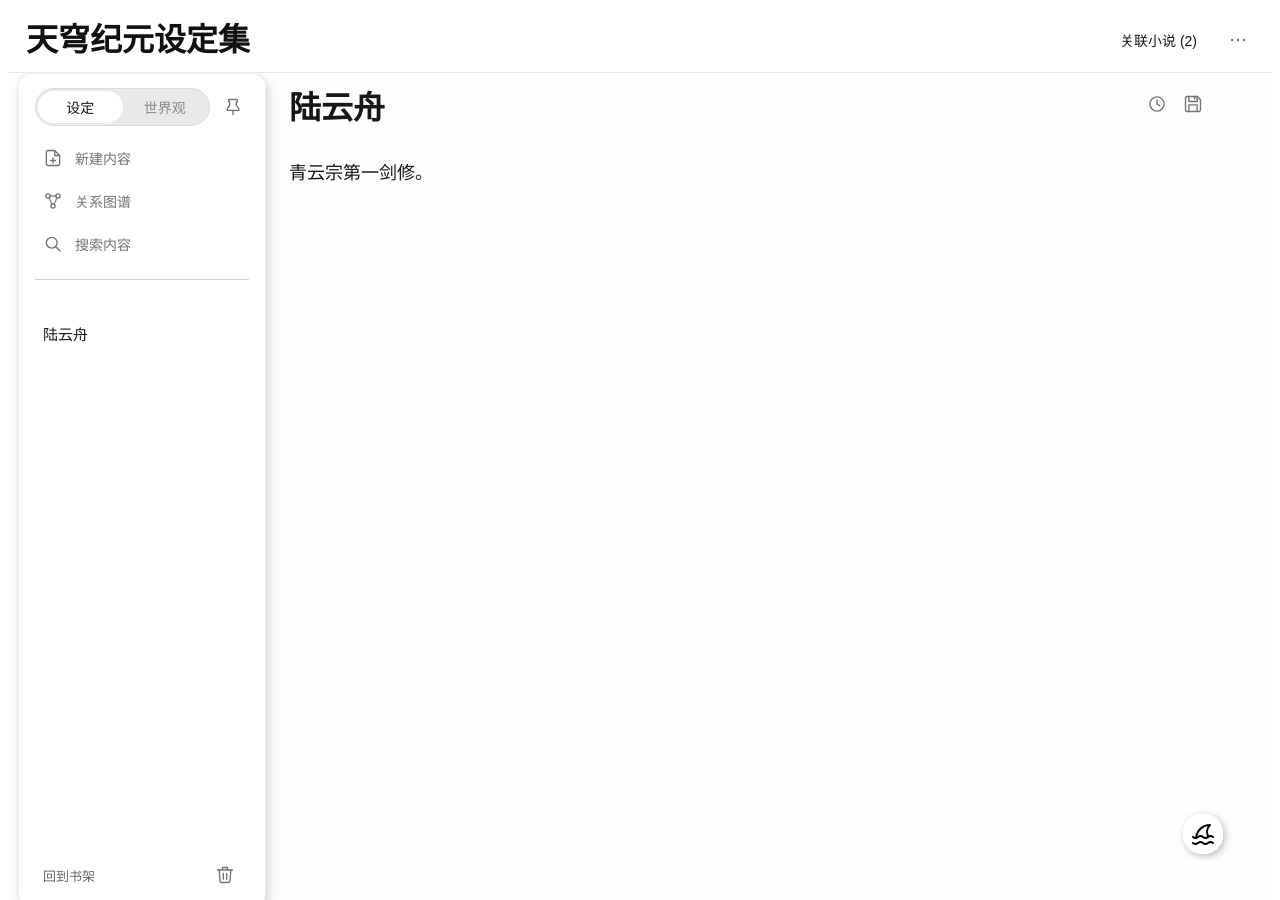
Scenario: SettingCollectionWorkspace › retains local draft and renders conflict banner when saving encounters 409 Conflict
This screenshot has width=1280, height=900.
Expected: the heading "天穹纪元设定集" is shown, [26,17,250,63]
Clear the field named "设定正文": (361, 173) [289,163,433,183]
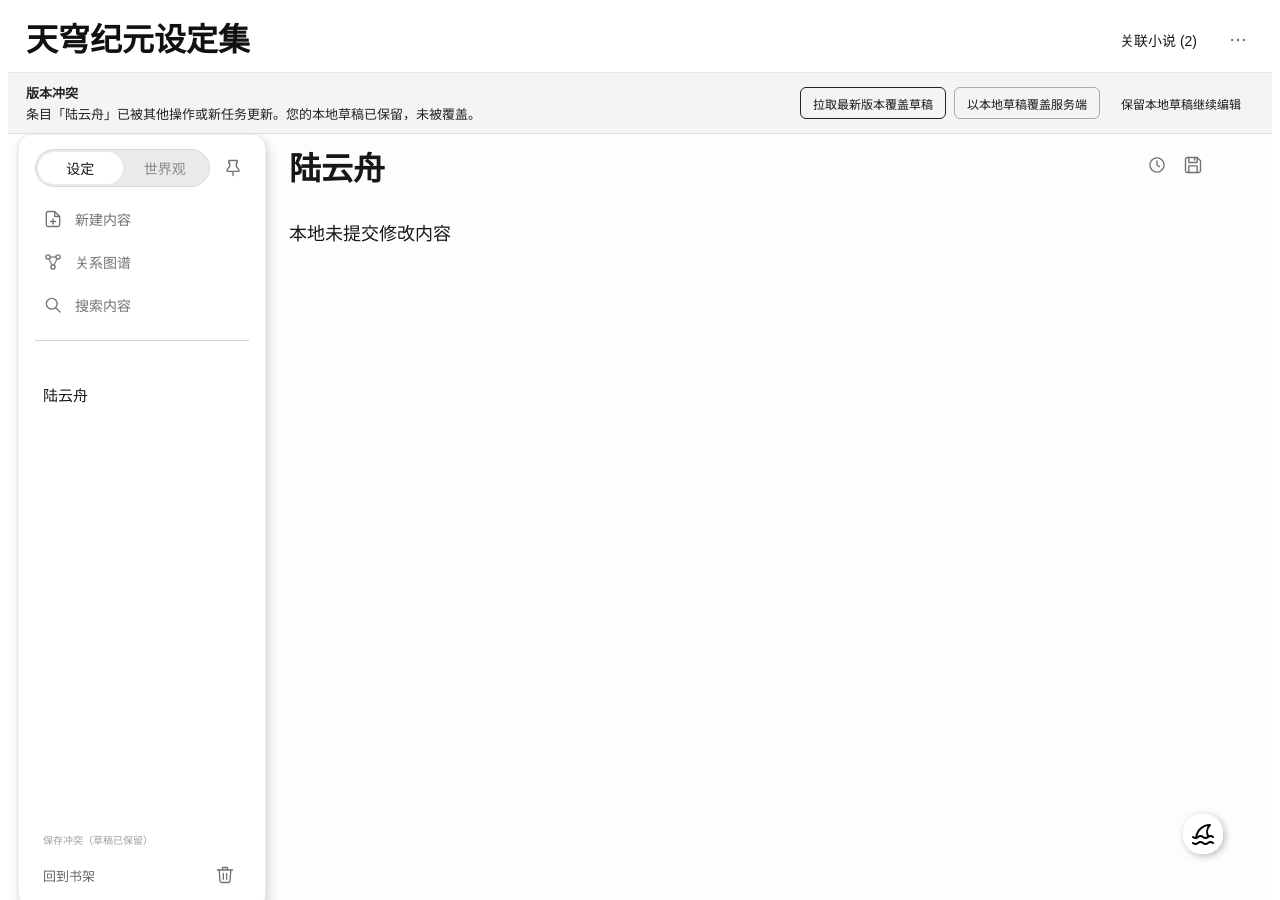
Expected: the message "版本冲突 条目「陆云舟」已被其他操作或新任务更新。您的本地草稿已保留，未被覆盖。 拉取最新版本覆盖草稿 以本地草稿覆盖服务端 保留本地草稿继续编辑" is shown, [8,73,1272,134]
Expected: the text "版本冲突" is shown, [26,86,78,101]
Expected: the button "拉取最新版本覆盖草稿" is shown, [800,87,946,119]
